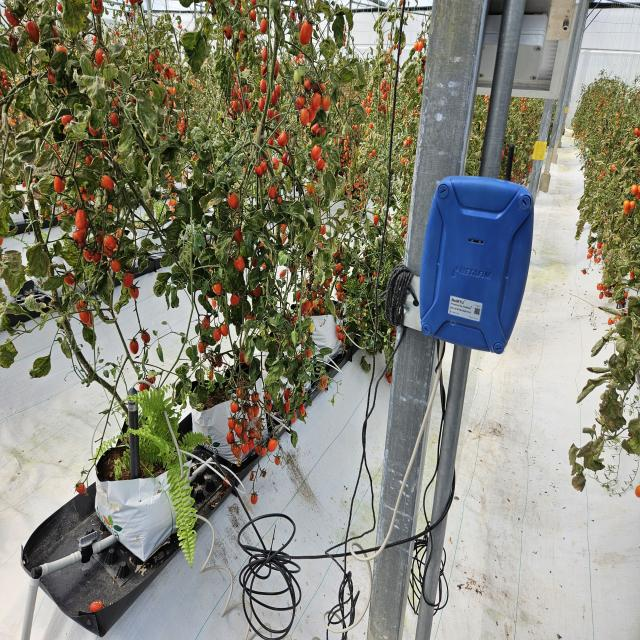Obstacle: (348, 3, 527, 636), (123, 377, 188, 512)
Soilbag: (88, 440, 187, 547)
